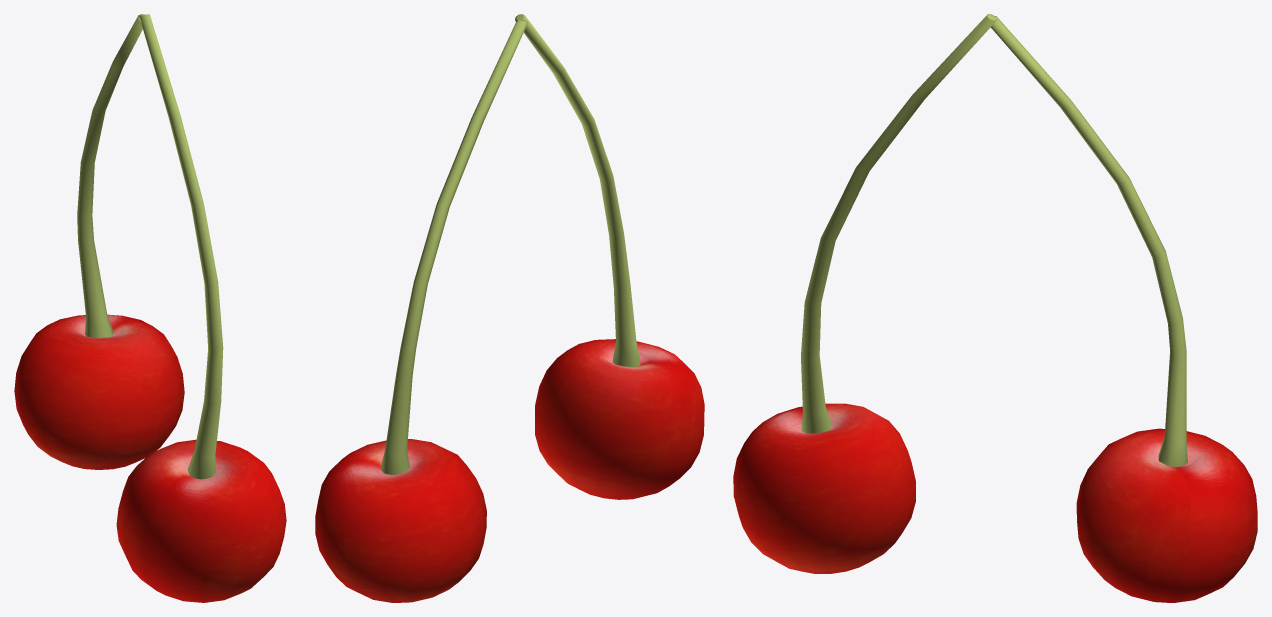
The model's file is Cherries.fbx.
The picture shows the model from 3 angles, left to right: view 1: azimuth 30°, elevation 25°; view 2: azimuth 150°, elevation 25°; view 3: azimuth 270°, elevation 25°; orthographic projection. The views are drawn at different scales.
Parts seen in each view (by area): view 1: Cherries1; view 2: Cherries1; view 3: Cherries1.
Boxes of the visible parts, x1,y1,x2,y2 form: Cherries1: (14, 14, 286, 602); Cherries1: (315, 14, 704, 602); Cherries1: (733, 14, 1257, 602).
Bounding box in the file's own units: 2.88 × 7.03 × 5.97.
